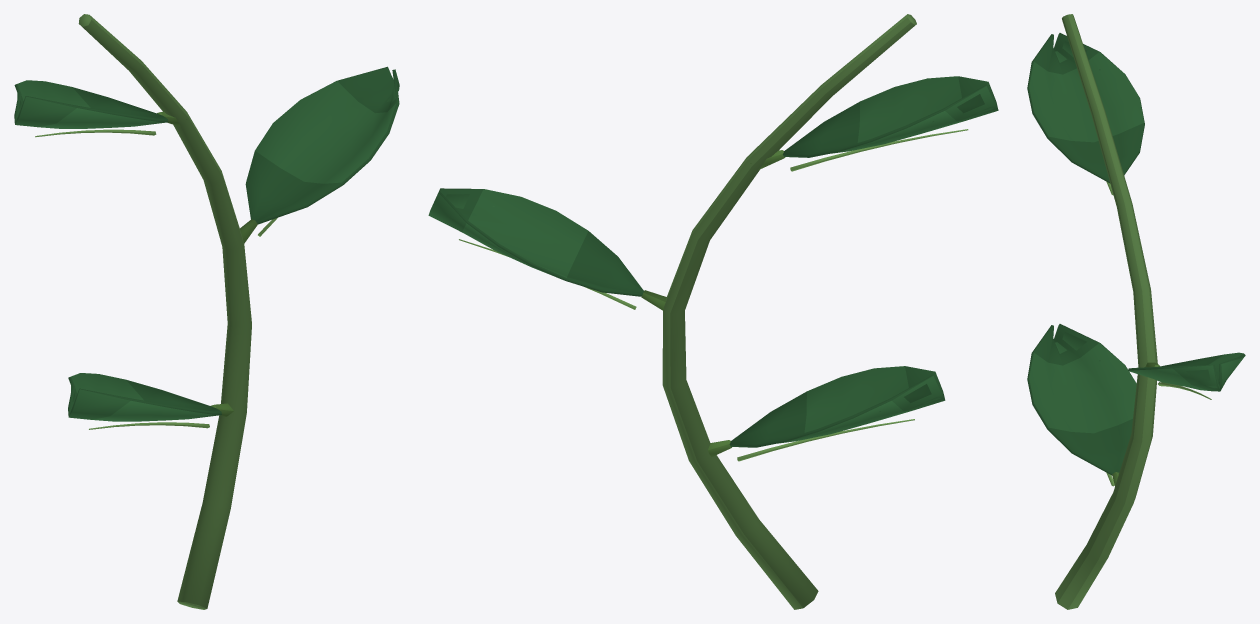
The model's file is garden-geranium-bud-stem-3.glb.
The picture shows the model from 3 angles, left to right: view 1: azimuth 30°, elevation 25°; view 2: azimuth 150°, elevation 25°; view 3: azimuth 270°, elevation 25°; orthographic projection. The views are drawn at different scales.
Visible parts, largest first — view 1: geranium-bud-stem-3; view 2: geranium-bud-stem-3; view 3: geranium-bud-stem-3.
Part boxes in pixels (bbox=[...]): geranium-bud-stem-3: bbox=[14, 14, 399, 609]; geranium-bud-stem-3: bbox=[428, 14, 998, 609]; geranium-bud-stem-3: bbox=[1027, 14, 1245, 609].
Bounding box in the file's own units: 0.2439 × 0.303 × 0.1097.
